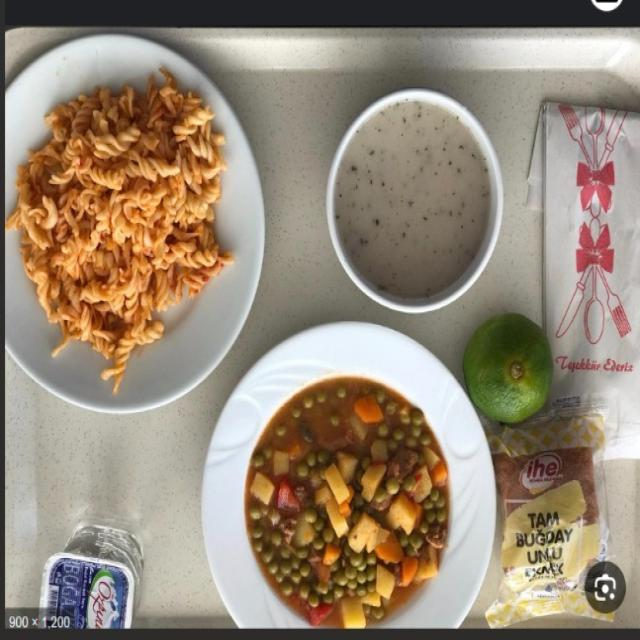ana_yemek: (18, 76, 228, 400), (212, 370, 468, 618)
corba: (310, 86, 499, 330)
